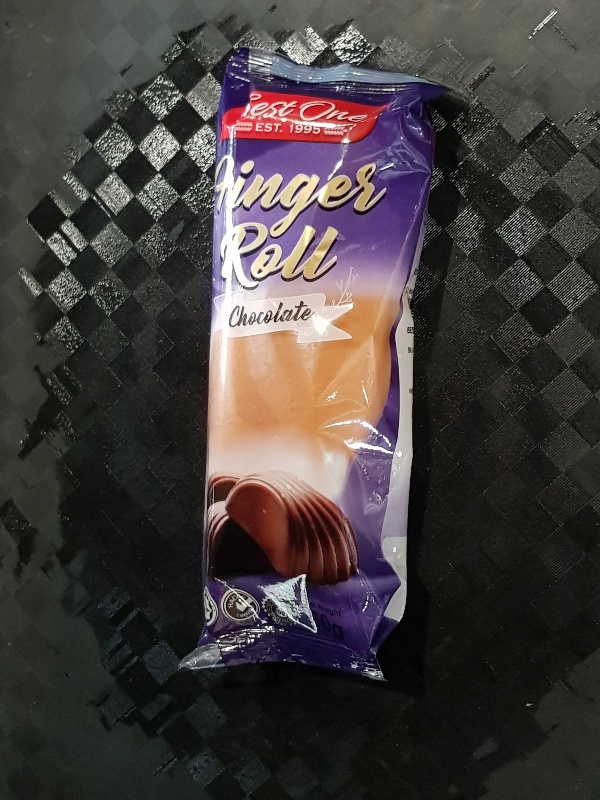Tinges Roll Chocolate: (191, 49, 445, 697)
